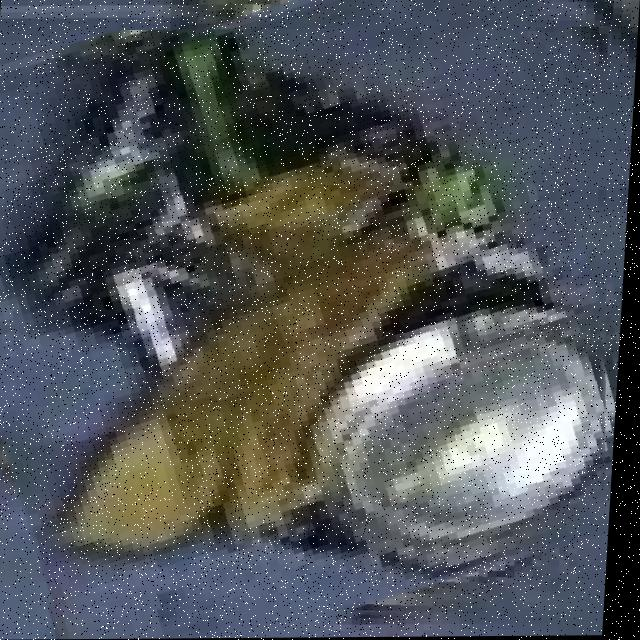litter: (0, 30, 612, 616)
